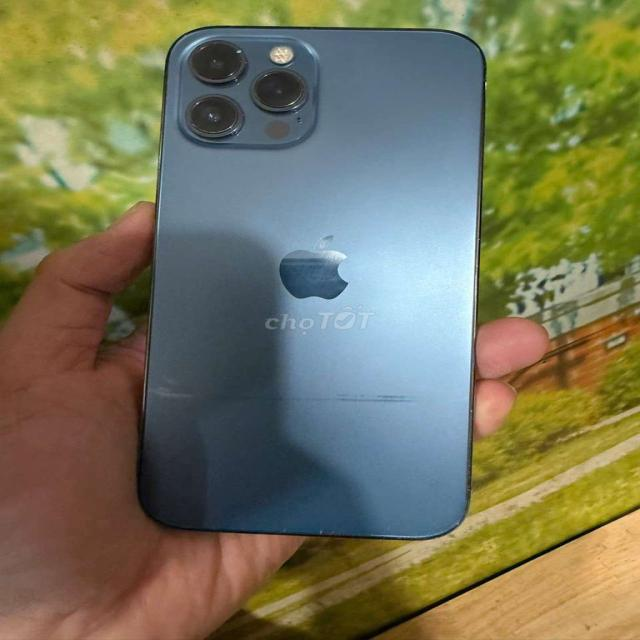gen_12_13: (130, 14, 503, 557)
scratch: (135, 358, 448, 452)
